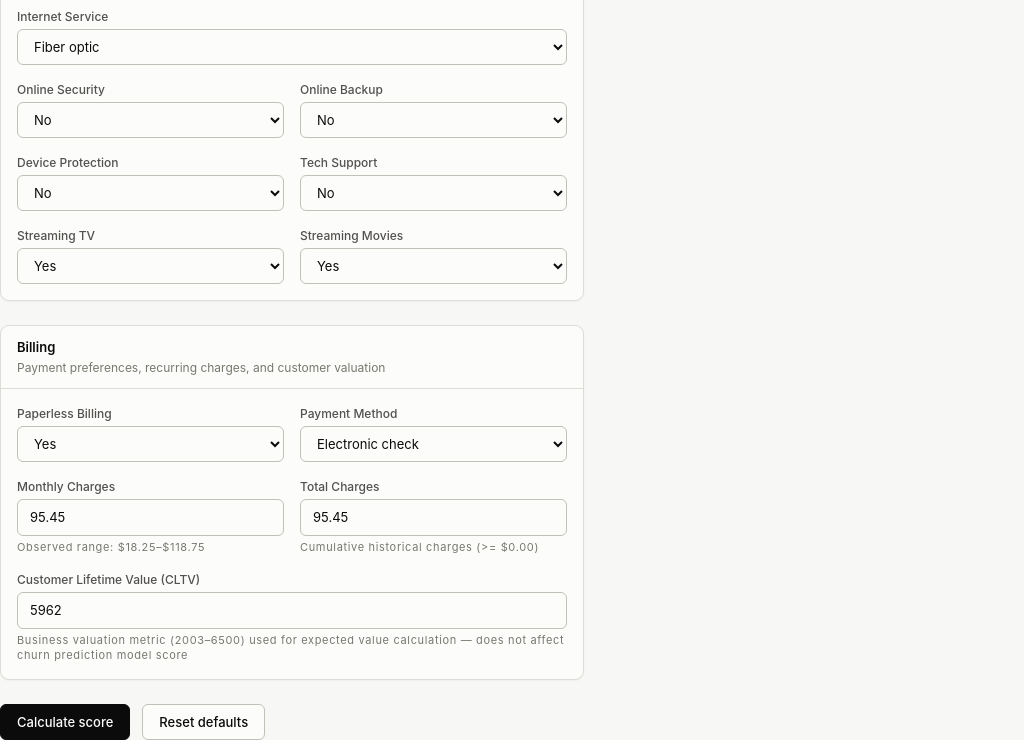
ScorePage and Manual Scoring Form › Preview Note Generation › generates an AI preview note when button clicked, with no Approve/Reject buttons
The width and height of the screenshot is (1024, 740).
(page scrolled)
# Calculate score first
Step 1. Click the button "Calculate score" → (65, 722), box x1=0 y1=704 x2=130 y2=739
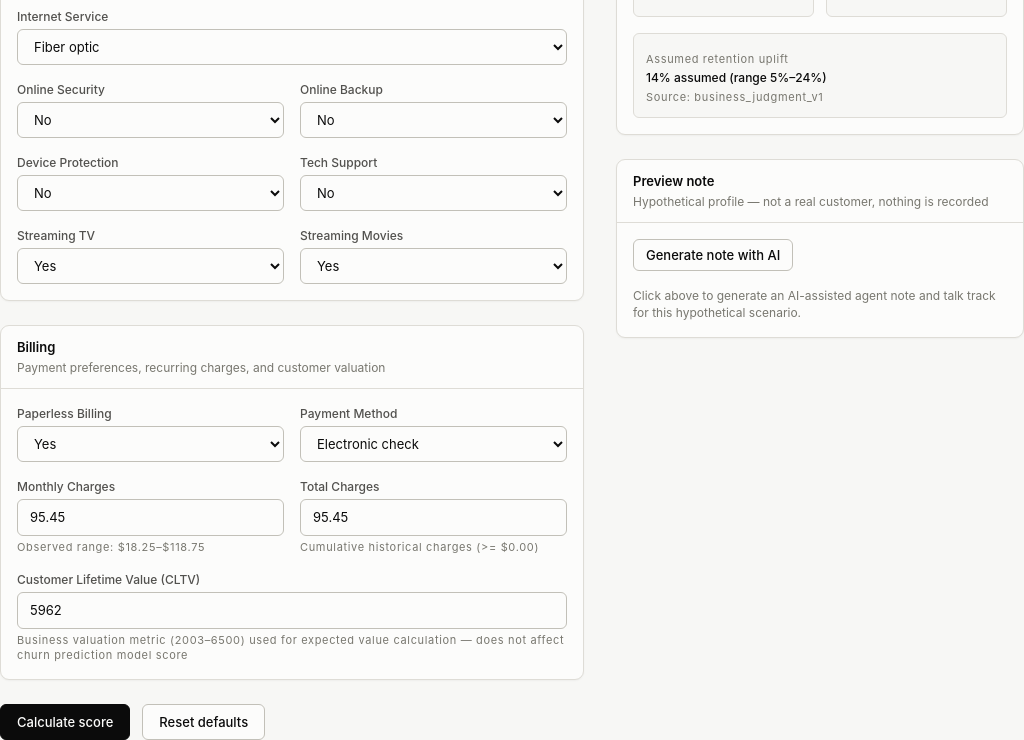
Result: the heading "Preview note" is shown at x1=633 y1=173 x2=714 y2=189
Result: the text "Hypothetical profile — not a real customer, nothing is recorded" is shown at x1=633 y1=193 x2=988 y2=210
# Click Generate note with AI
Step 2. Click the button "Generate note with AI" → (713, 255), box x1=633 y1=239 x2=793 y2=271
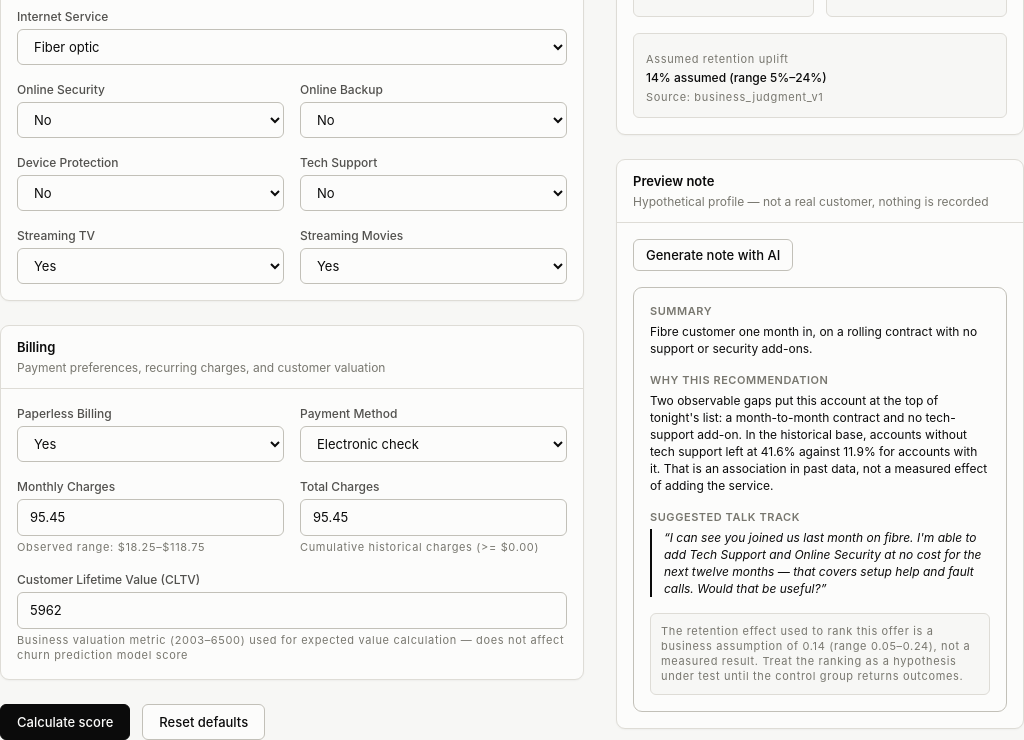
Result: the heading "Suggested talk track" is shown at x1=650 y1=510 x2=800 y2=524
